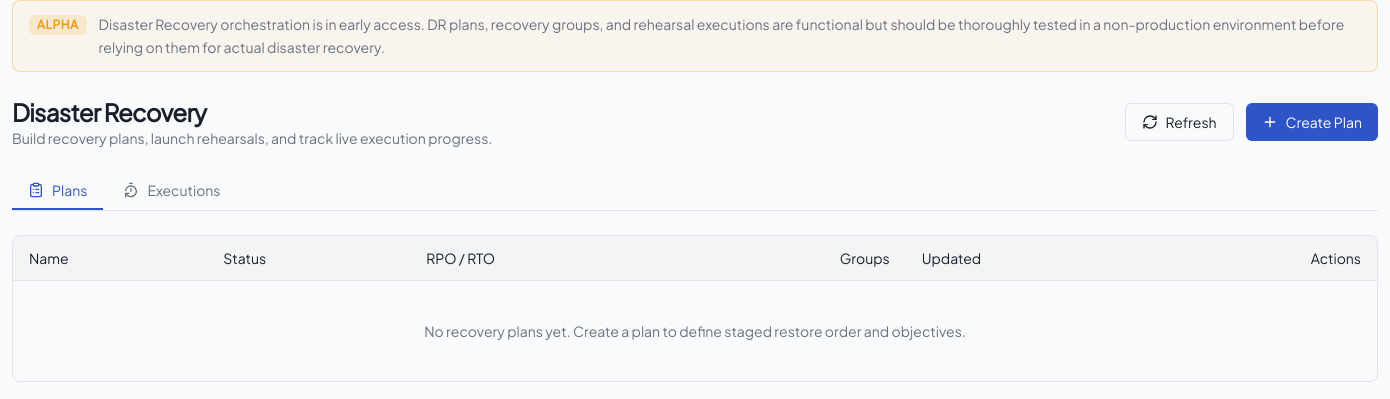
Scenario: DRDashboard › renders two tabs and switches to the executions view
Check: the text "No recovery plans yet" is shown, box [424,322,966,340]
Check: the button "Plans" is shown, box [12,172,103,210]
Click the button "Executions" at (172, 190), box [107,172,236,210]
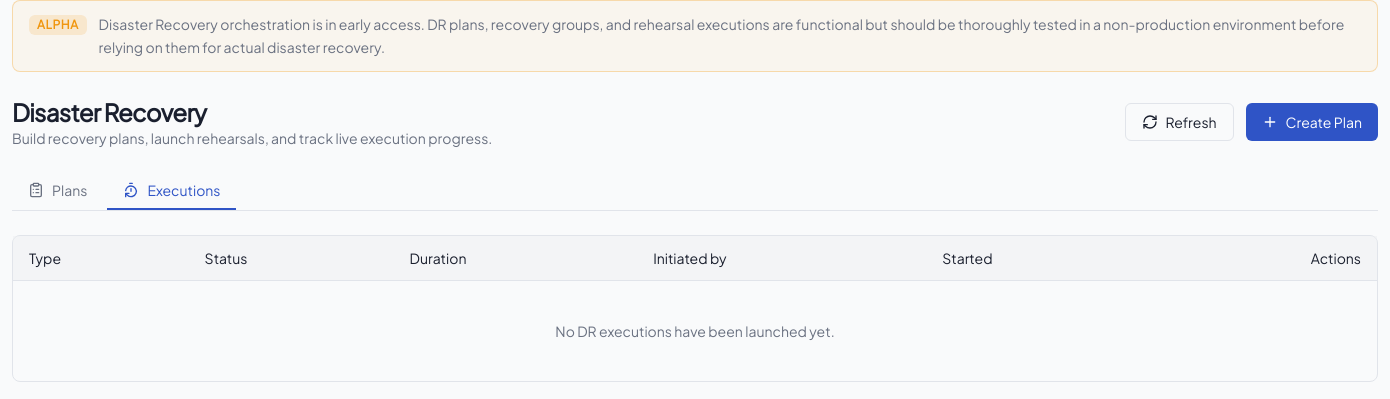
Check: the text "No DR executions have been launched yet." is shown, box [13,280,1377,380]
